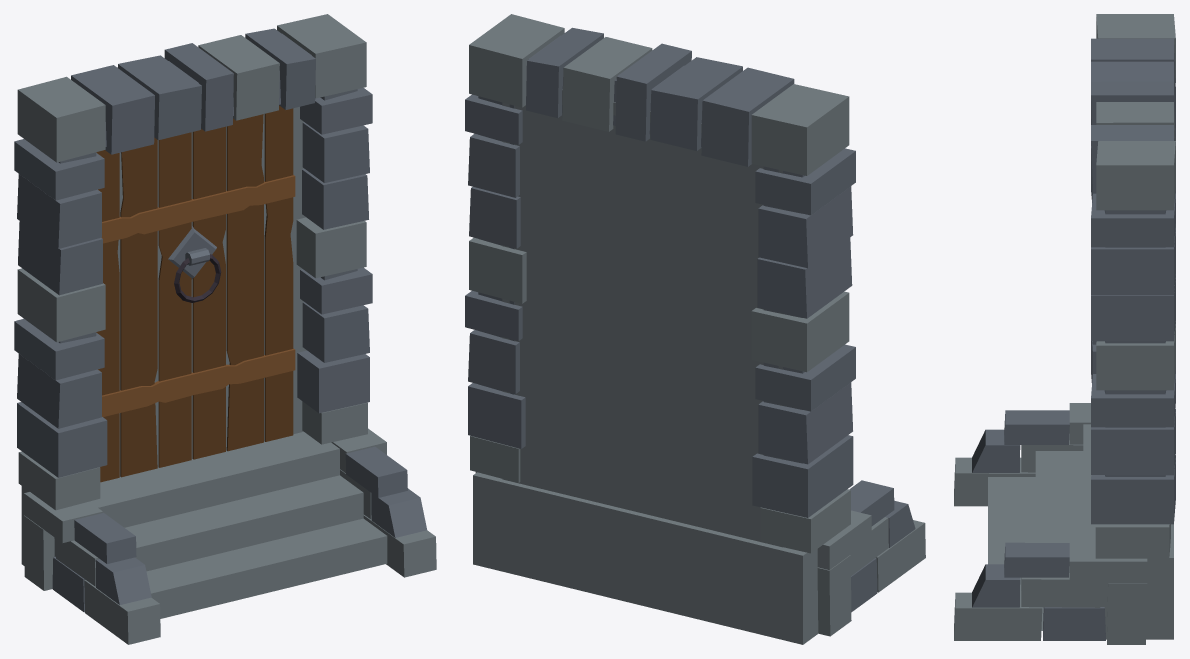
Rendered from Door Straight.glb.
3 renders of one model, left to right at view 1: azimuth 30°, elevation 25°; view 2: azimuth 150°, elevation 25°; view 3: azimuth 270°, elevation 25°, orthographic. The views are drawn at different scales.
Parts seen in each view (by area): view 1: Door Straight; view 2: Door Straight; view 3: Door Straight.
Part boxes in pixels (x1,y1,x2,y2): Door Straight: (14, 14, 436, 644); Door Straight: (465, 14, 925, 644); Door Straight: (954, 14, 1175, 644).
Size of the model in its own units: 0.5004 by 0.7065 by 0.2958.
